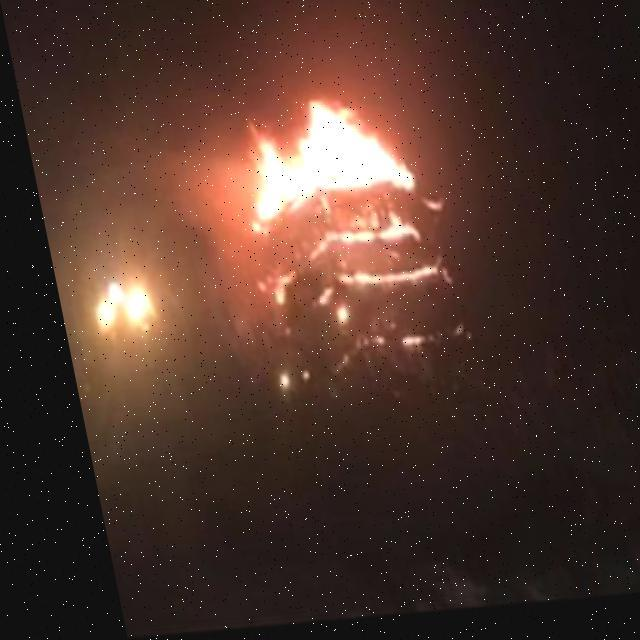Fire: (224, 90, 444, 362), (75, 273, 147, 339)
